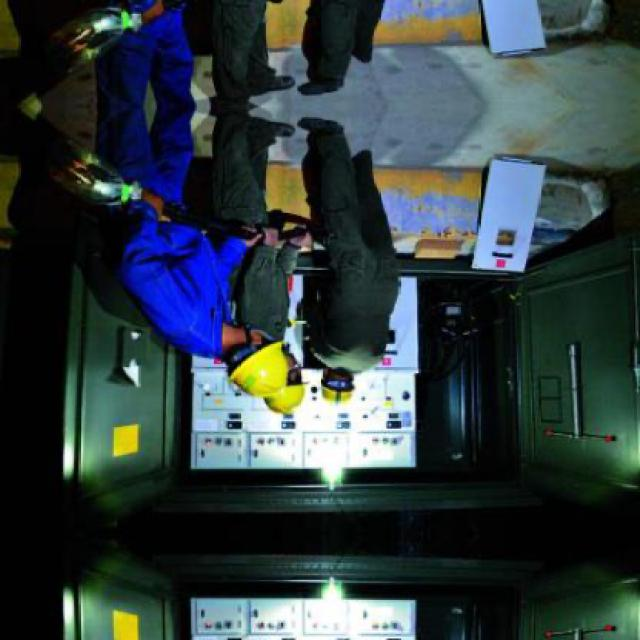con casco: (176, 329, 280, 410), (270, 357, 340, 433)
